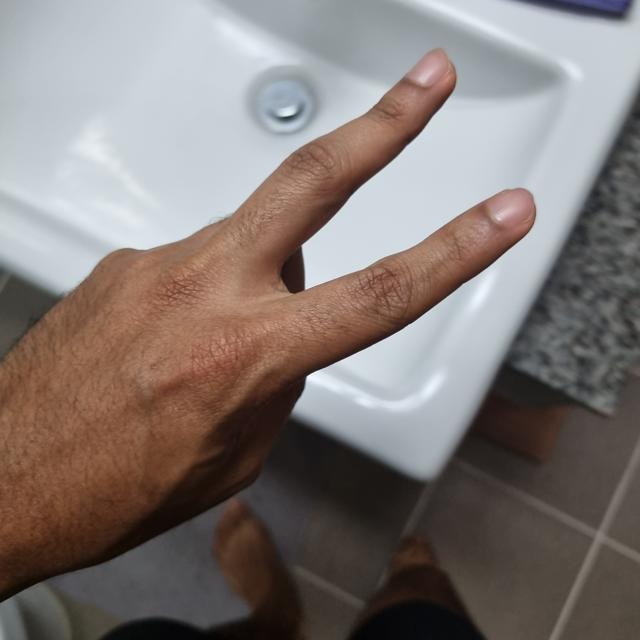Scissors: (0, 58, 531, 592)
